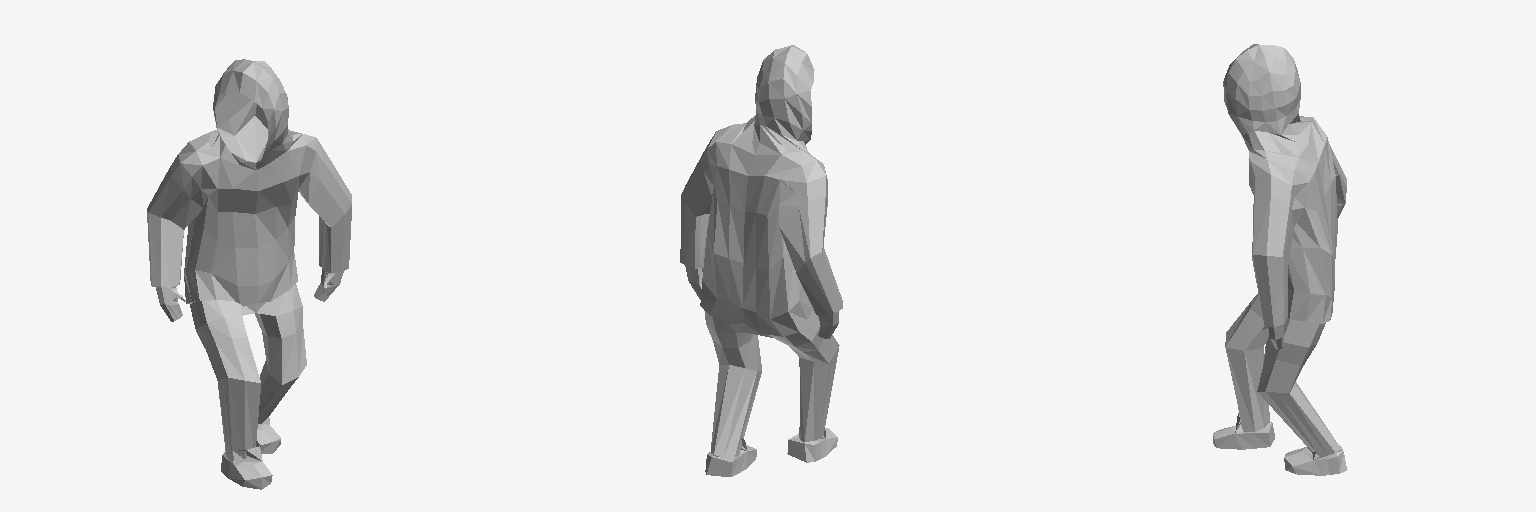
Rendered from Shadowmanv_000022.obj.
The picture shows the model from 3 angles: view 1: azimuth 30°, elevation 25°; view 2: azimuth 150°, elevation 25°; view 3: azimuth 270°, elevation 25°; orthographic projection.
Parts seen in each view (by area): view 1: Cube.000; view 2: Cube.000; view 3: Cube.000.
Boxes of the visible parts, x1,y1,x2,y2 form: Cube.000: [147, 59, 351, 489]; Cube.000: [680, 45, 842, 476]; Cube.000: [1213, 44, 1346, 475].
Size of the model in its own units: 5.13 by 11.22 by 3.33.